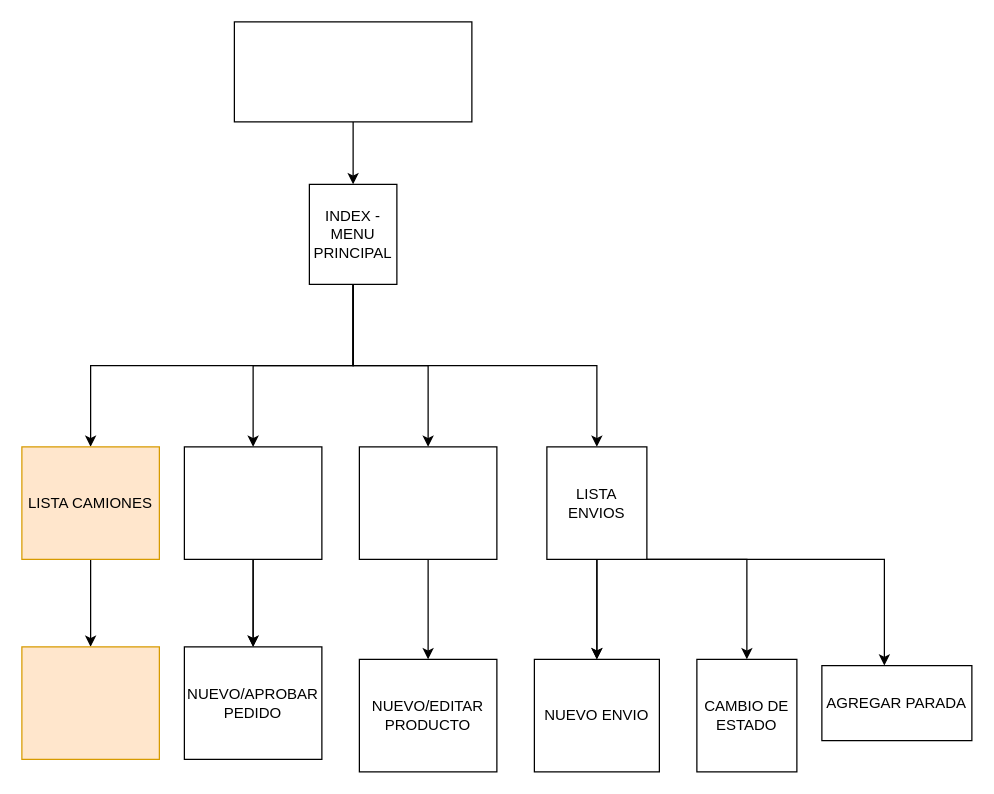
This 994x794 diagram has some shape labels left out. The shapes that lost their labels are listed below. From the top down, each one's centre as x and y in pixels, then its label:
At point 352,71: "LOGIN/REGISTRO".
At point 252,502: "LISTA PEDIDOS".
At point 427,502: "LISTA PPRODUCTOS".
At point 90,702: "NUEVO/EDITAR CAMION".
